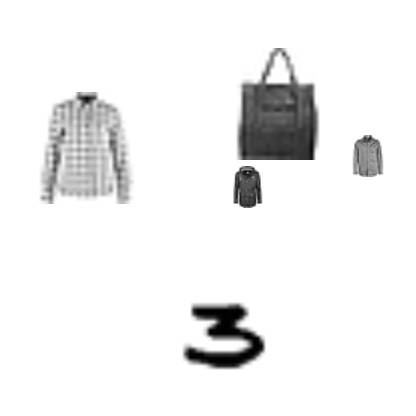3: (168, 280, 280, 392)
Bag: (222, 48, 334, 160)
Coat: (226, 166, 268, 208)
Shirt: (29, 92, 141, 204), (347, 135, 389, 177)
